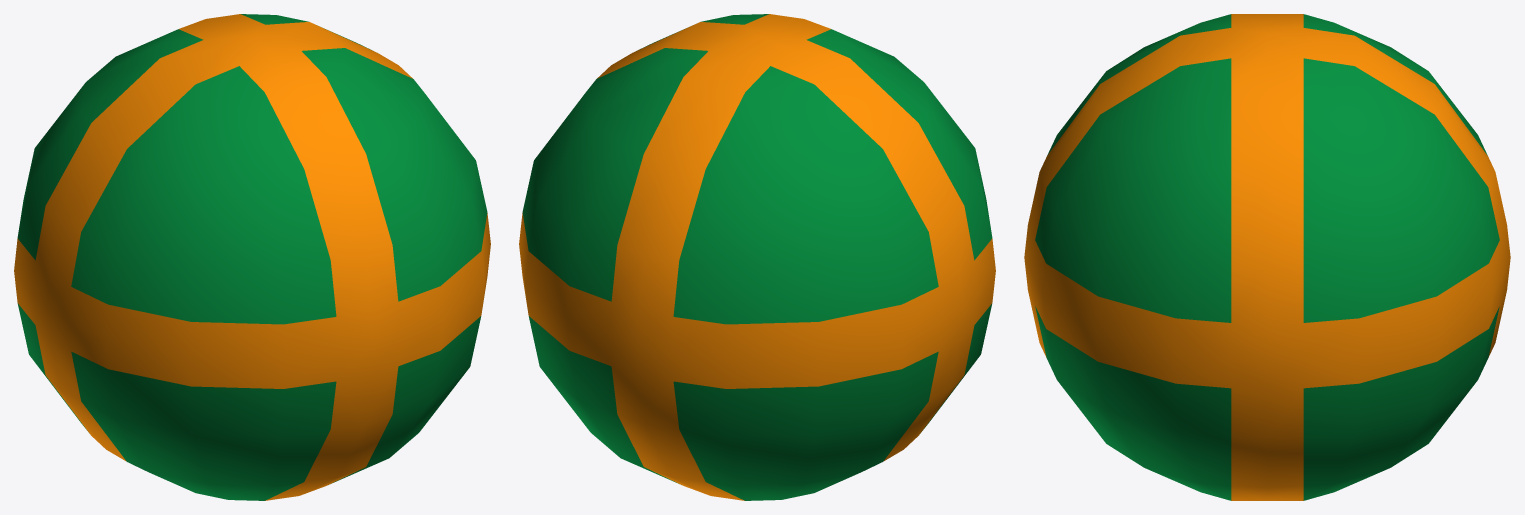
File: obj_sphere_green.FBX
3 views of the same model, side by side, from view 1: azimuth 30°, elevation 25°; view 2: azimuth 150°, elevation 25°; view 3: azimuth 270°, elevation 25° (orthographic).
Parts seen in each view (by area): view 1: Sphere003; view 2: Sphere003; view 3: Sphere003.
Part boxes in pixels (x1=…): Sphere003: x1=14, y1=14, x2=490, y2=500; Sphere003: x1=519, y1=14, x2=995, y2=500; Sphere003: x1=1024, y1=14, x2=1510, y2=500.
Bounding box in the file's own units: 19.42 × 20 × 19.71.
